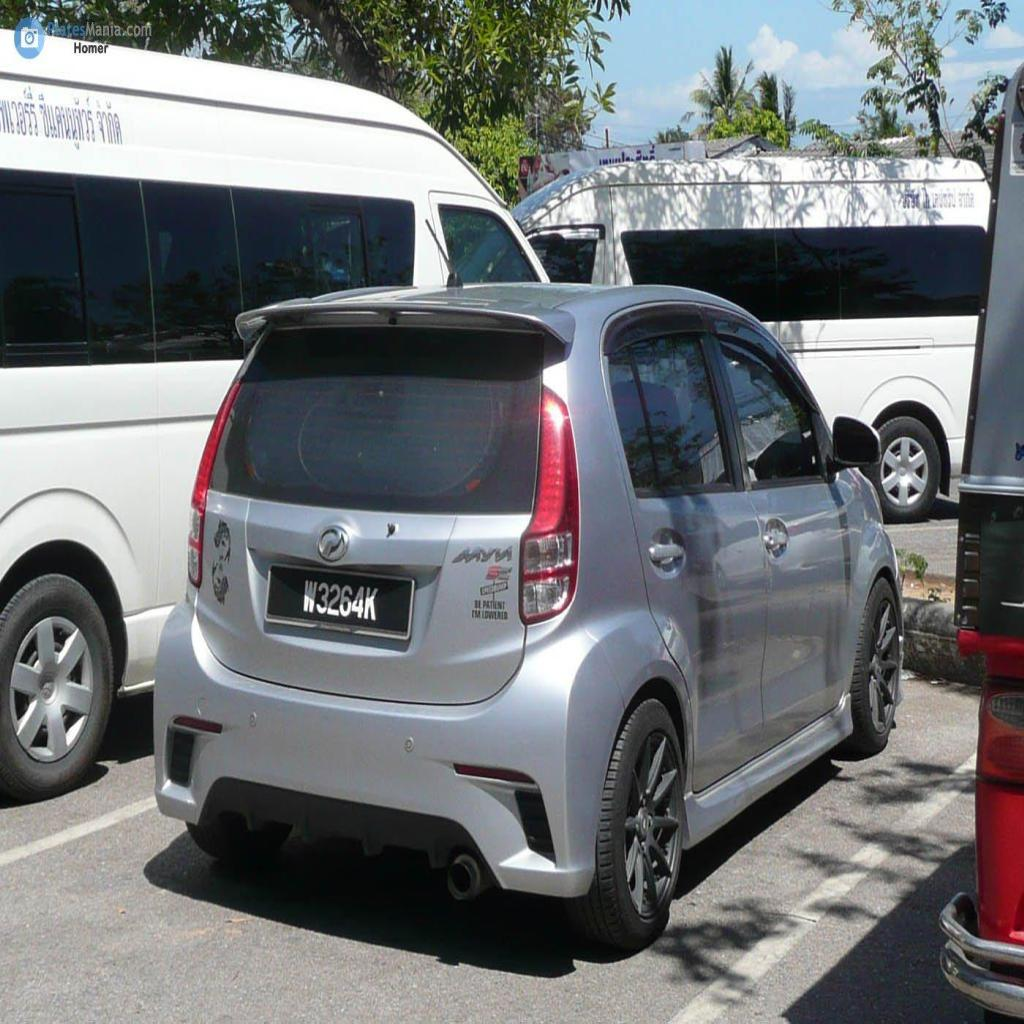car: (155, 285, 901, 947)
car plate: (266, 564, 413, 638)
